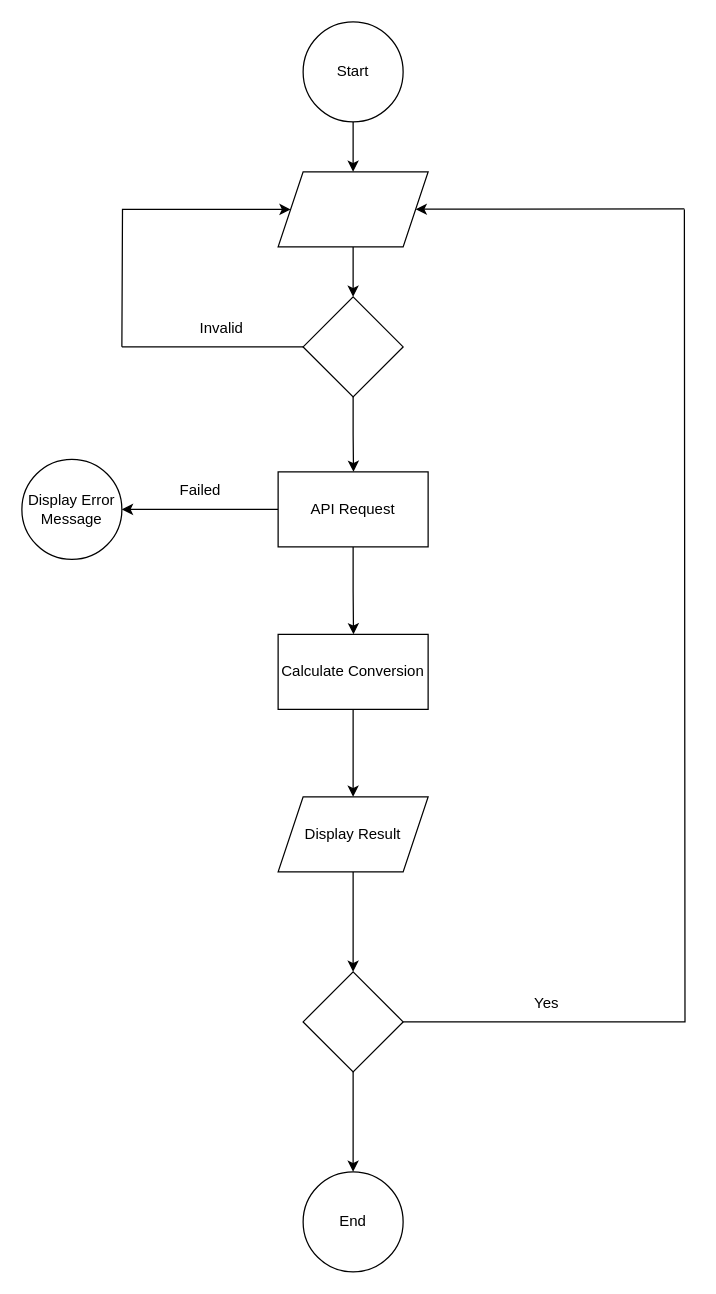
Image size: 716x1294. Some labels were removed from this diagram. The centre of each missing label's shape, as x and y in pixels:
"Convert Again?" goes at point 352,1021.
"Get User Input" goes at point 352,209.
"Validate Input" goes at point 352,346.
